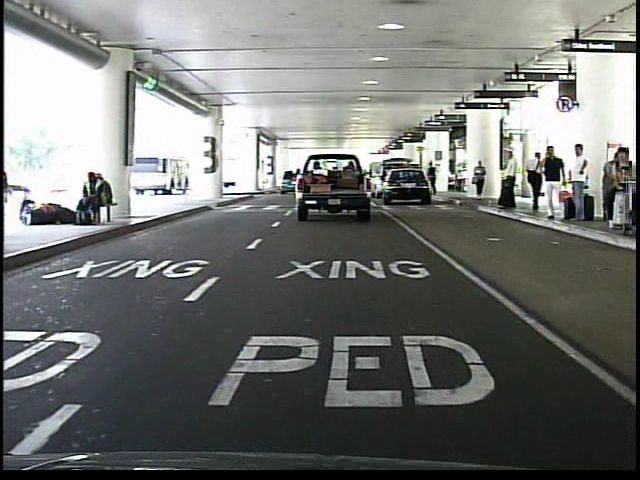person: (568, 138, 595, 230), (539, 142, 568, 224), (496, 148, 522, 213), (523, 146, 547, 213), (472, 159, 488, 202), (427, 161, 439, 199)
